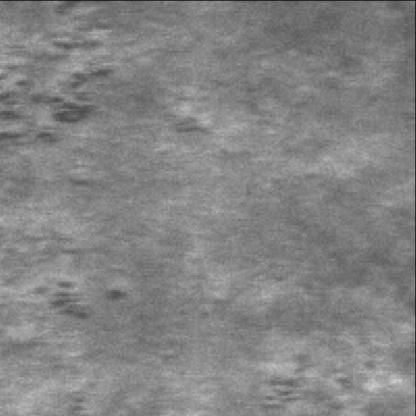rolled-in_scale: (2, 4, 144, 177), (250, 333, 416, 414), (4, 260, 141, 322)
